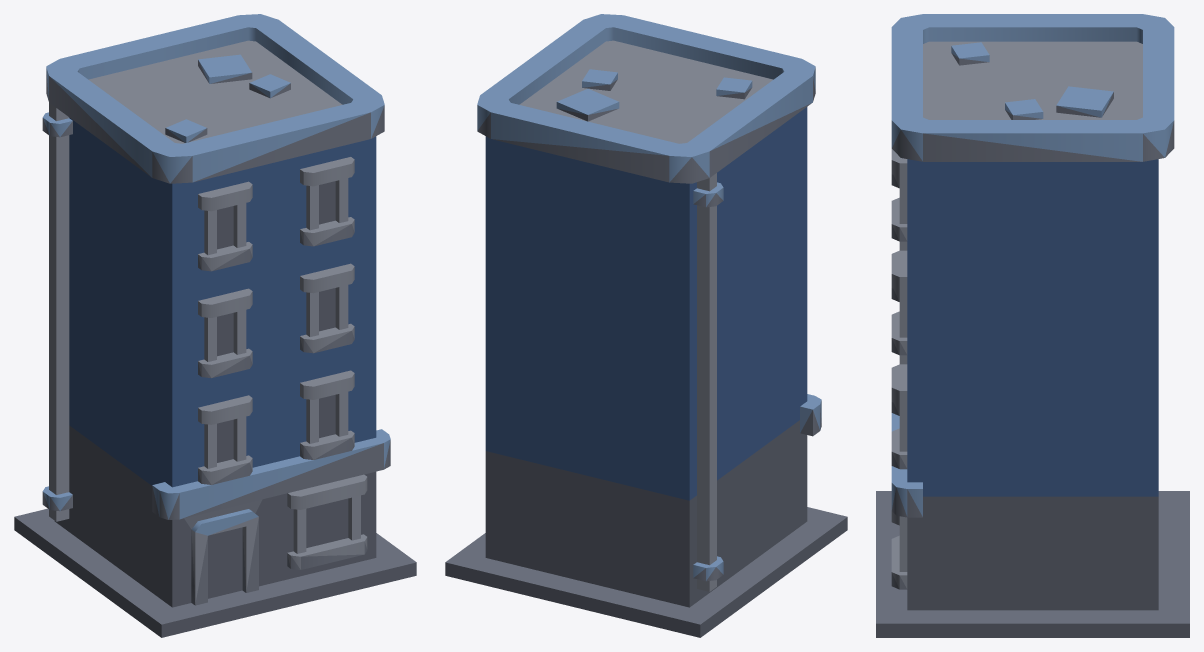
Rendered from building-small-c.glb.
3 views of the same model, side by side, from view 1: azimuth 30°, elevation 25°; view 2: azimuth 150°, elevation 25°; view 3: azimuth 270°, elevation 25° (orthographic). The views are drawn at different scales.
Visible parts, largest first — view 1: building-small-c; view 2: building-small-c; view 3: building-small-c.
Boxes of the visible parts, x1,y1,x2,y2 form: building-small-c: (14,14,416,637); building-small-c: (445,14,847,637); building-small-c: (876,14,1189,637).
Size of the model in its own units: 12 by 21 by 12.
